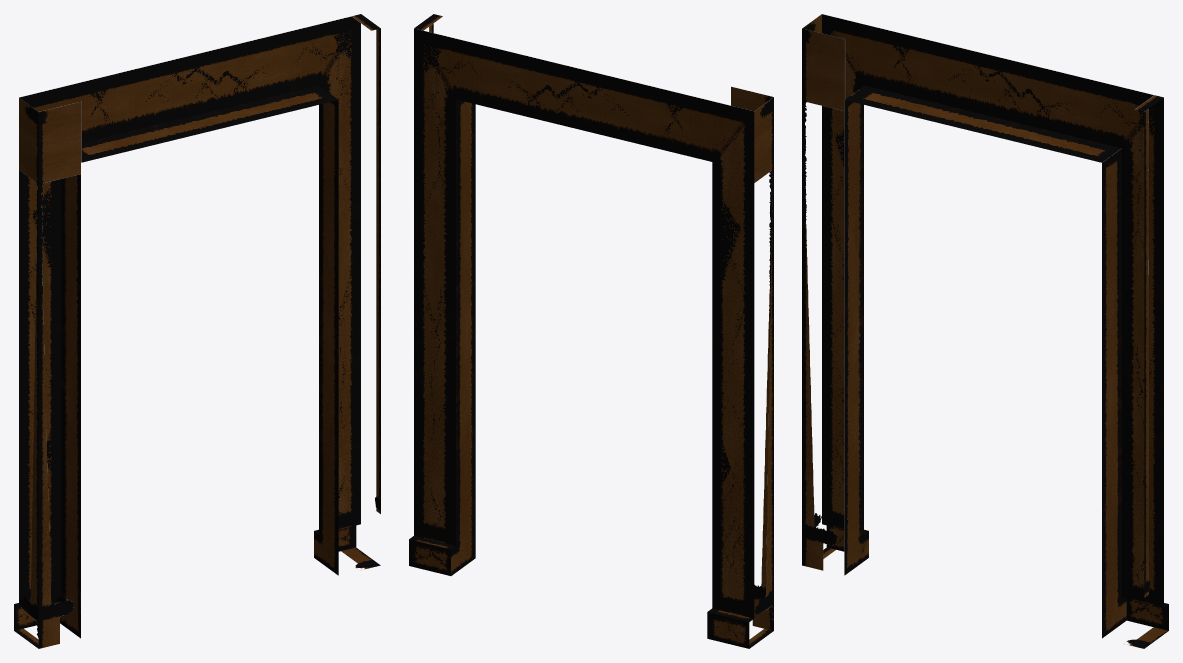
The model's file is Doorway.fbx.
The picture shows the model from 3 angles, left to right: view 1: azimuth 30°, elevation 25°; view 2: azimuth 150°, elevation 25°; view 3: azimuth 330°, elevation 25°; orthographic projection.
Visible parts, largest first — view 1: Doorway; view 2: Doorway; view 3: Doorway.
Boxes of the visible parts, x1,y1,x2,y2 form: Doorway: (14,14,380,648); Doorway: (409,14,773,648); Doorway: (802,14,1168,648).
Size of the model in its own units: 200 by 300 by 25.
Materials: 1 (1 with a texture image).
